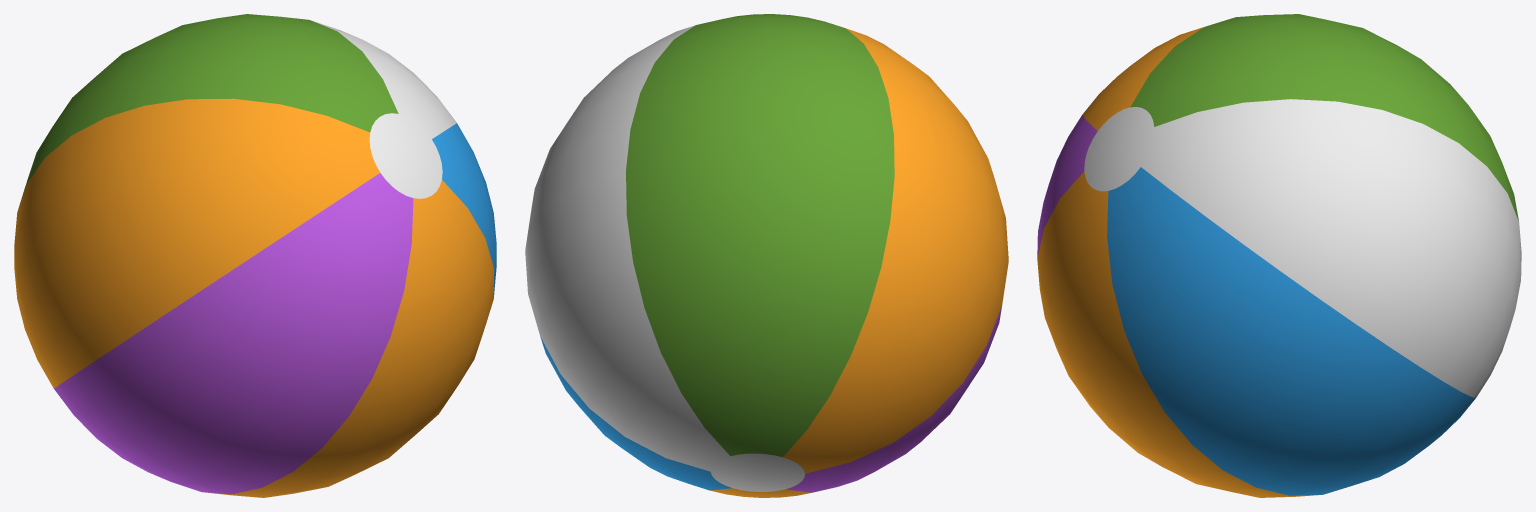
File: PELOTA.fbx
3 views of the same model, side by side, from view 1: azimuth 30°, elevation 25°; view 2: azimuth 150°, elevation 25°; view 3: azimuth 270°, elevation 25° (orthographic).
Parts seen in each view (by area): view 1: pelota; view 2: pelota; view 3: pelota.
Part boxes in pixels (x1=…): pelota: x1=14, y1=14, x2=496, y2=497; pelota: x1=525, y1=14, x2=1008, y2=497; pelota: x1=1037, y1=14, x2=1521, y2=497.
Size of the model in its own units: 399 by 399 by 399.
